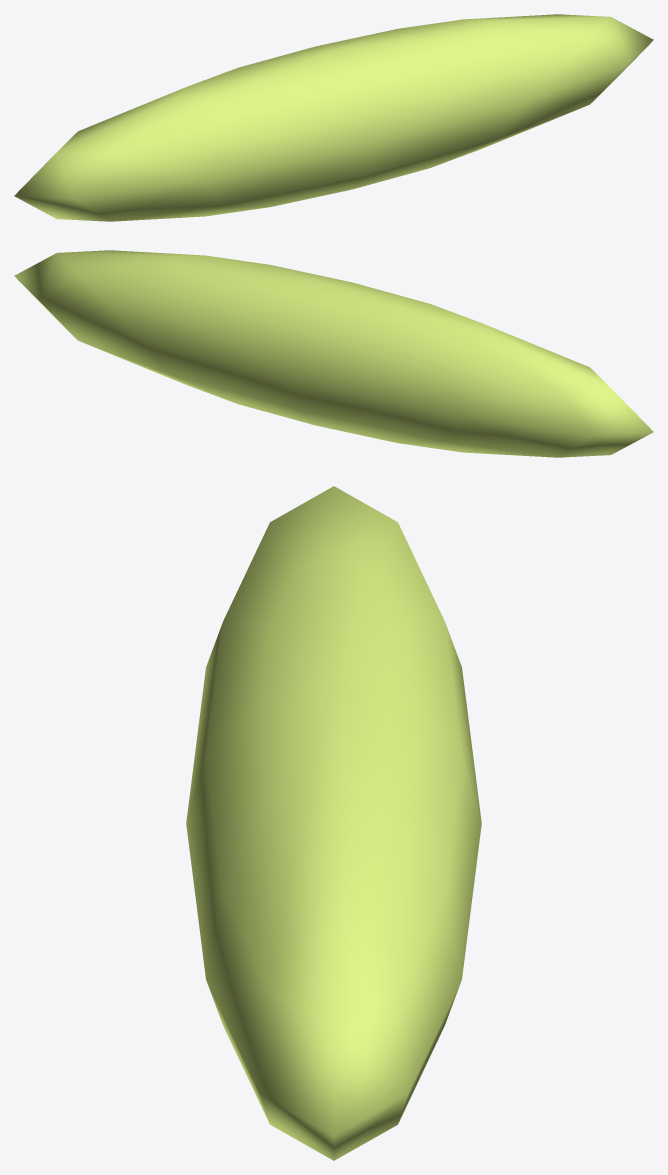
File: LaserPistol5.fbx
3 views of the same model, one above another, from view 1: azimuth 30°, elevation 25°; view 2: azimuth 150°, elevation 25°; view 3: azimuth 270°, elevation 25° (orthographic). The views are drawn at different scales.
Parts seen in each view (by area): view 1: laser_green; view 2: laser_green; view 3: laser_green.
Boxes of the visible parts, x1,y1,x2,y2 form: laser_green: (14,14,653,221); laser_green: (14,250,653,457); laser_green: (186,486,481,1160).
Size of the model in its own units: 0.75 by 0.15 by 0.15.
